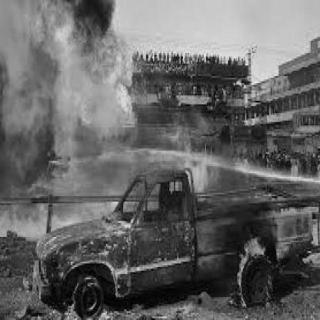Fire: (37, 0, 143, 131), (4, 196, 128, 236), (238, 233, 270, 299)
Smoke: (0, 30, 54, 177)
